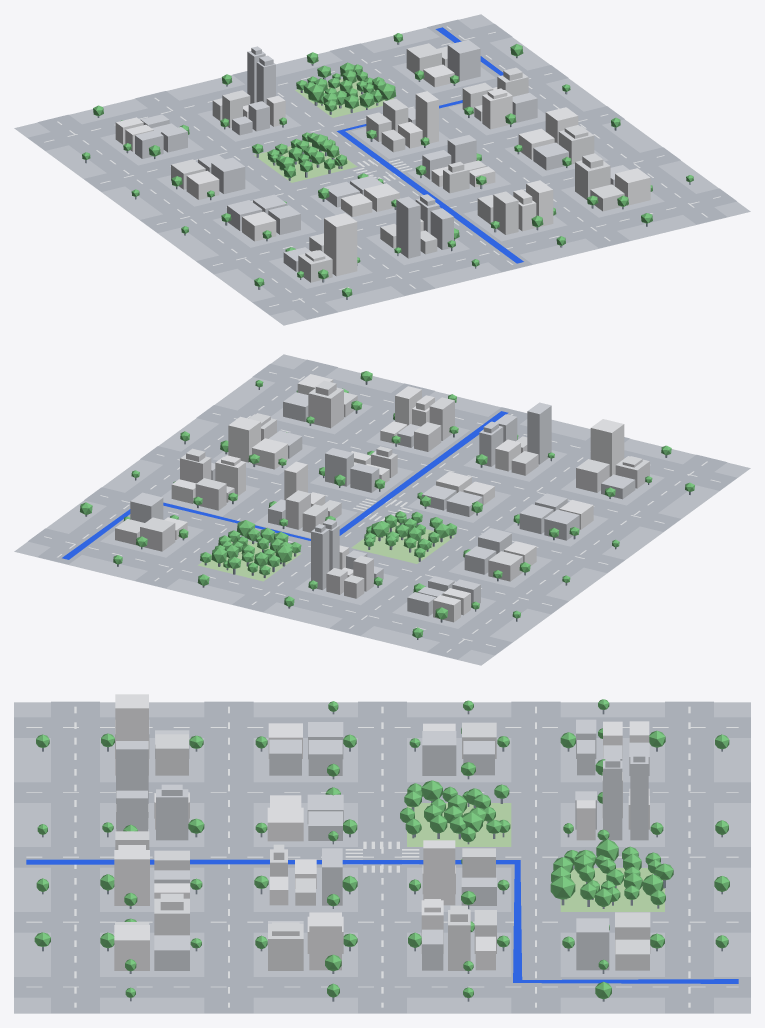
The model's file is low-poly-city.glb.
3 views of the same model, one above another, from view 1: azimuth 30°, elevation 25°; view 2: azimuth 150°, elevation 25°; view 3: azimuth 270°, elevation 25° (orthographic). The views are drawn at different scales.
Visible parts, largest first — view 1: Roads, Buildings, Ground, Trees, RoadLines, Route; view 2: Roads, Buildings, Ground, Trees, RoadLines, Route; view 3: Roads, Ground, Buildings, Trees, RoadLines, Route.
Part boxes in pixels (x1,y1,x2,y2): Roads: (28,19,736,319); Buildings: (115,40,650,282); Ground: (14,14,750,325); Trees: (82,33,693,299); RoadLines: (44,26,720,312); Route: (337,27,523,263); Roads: (28,359,736,659); Buildings: (115,374,649,622); Ground: (14,354,750,665); Trees: (80,371,694,639); RoadLines: (44,366,720,652); Route: (62,411,508,559); Roads: (14,701,750,1013); Ground: (14,702,750,1013); Buildings: (114,694,650,970); Trees: (34,699,729,1001); RoadLines: (26,706,738,1007); Route: (26,859,738,983).
Bounding box in the file's own units: 120 × 14.78 × 120.
